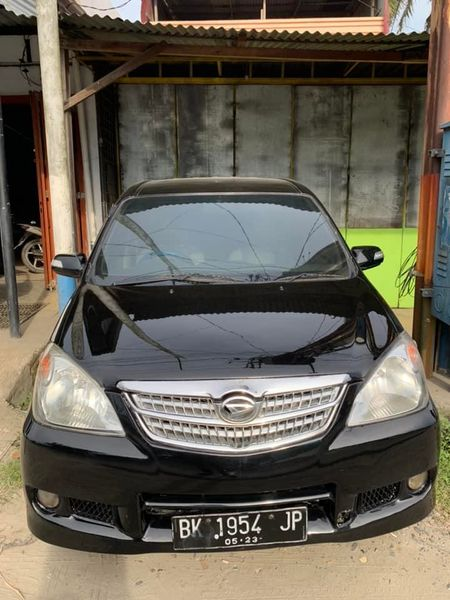plate: (170, 512, 314, 552)
